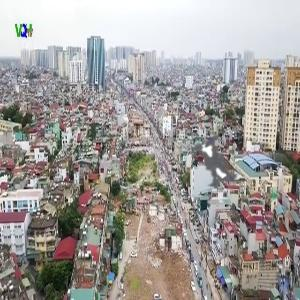drone: (152, 102, 280, 230)
